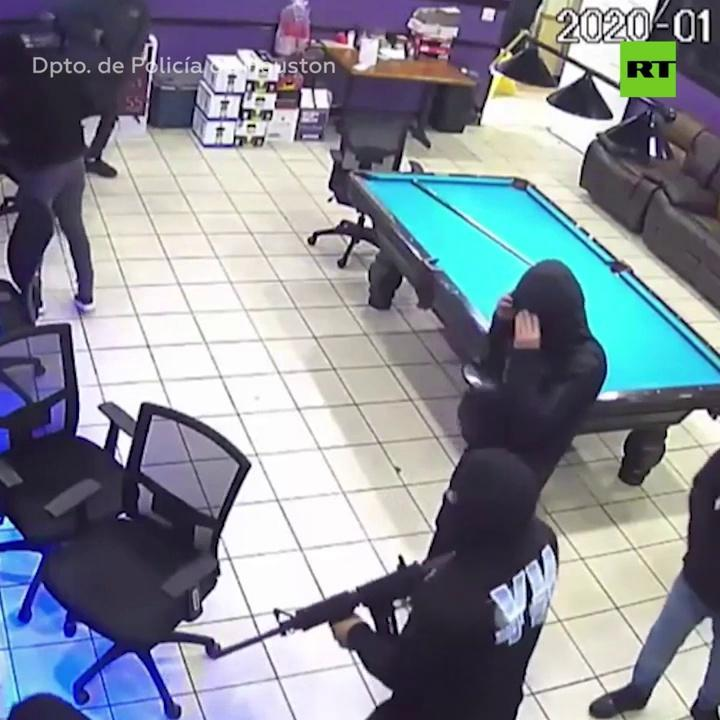Long guns: (204, 542, 466, 672)
